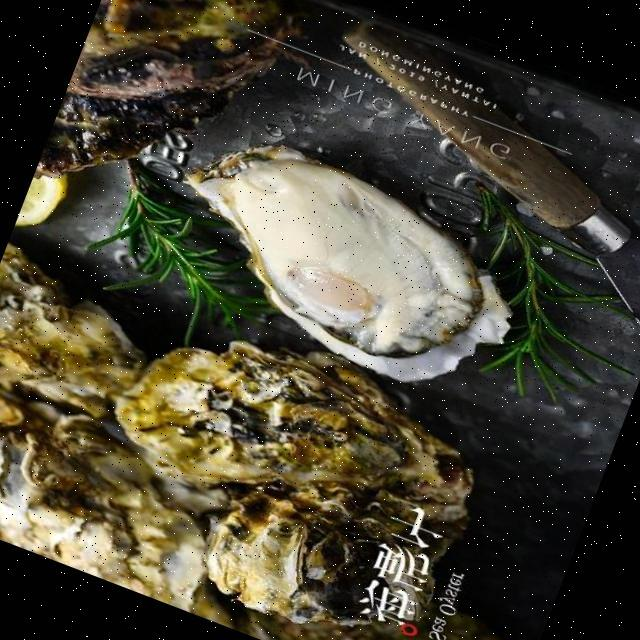Oyster-Closed: (103, 335, 491, 542), (0, 393, 251, 636), (193, 481, 478, 640), (28, 64, 275, 193), (0, 231, 152, 426), (65, 0, 325, 100), (215, 580, 512, 640)
Oyster-Open: (172, 126, 527, 388)
